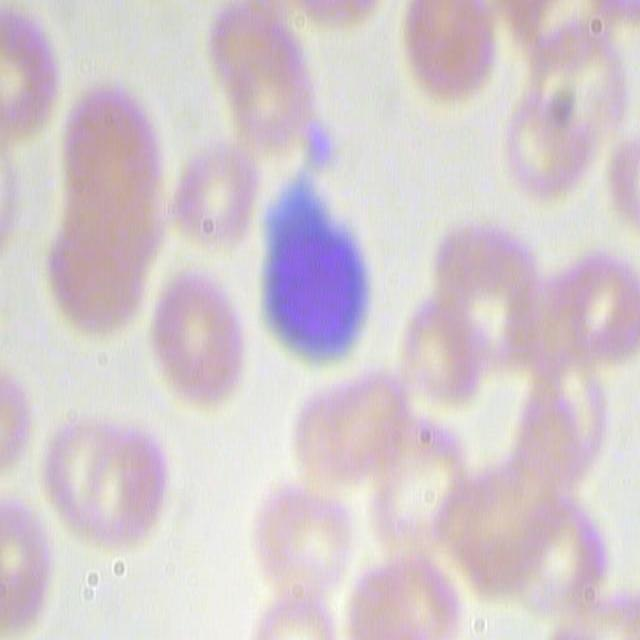Platelets: (299, 115, 333, 172)
WBC: (242, 169, 387, 387)
